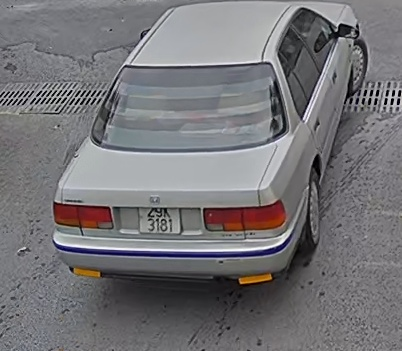vehicle plate: (131, 199, 177, 236)
